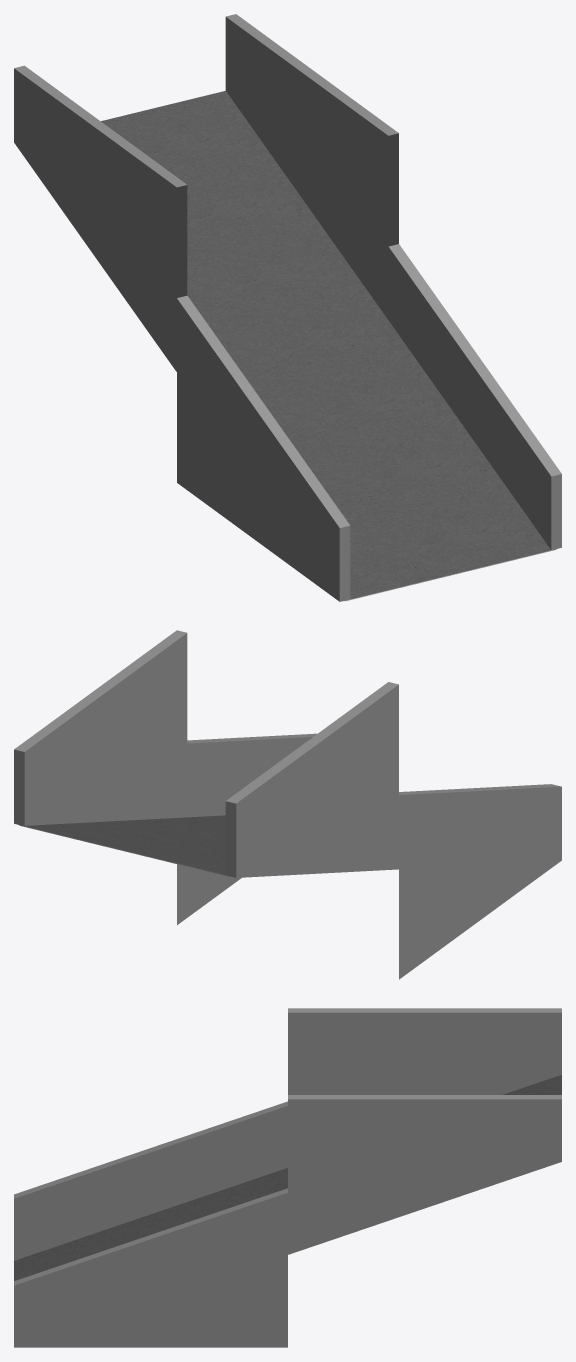
The model's file is Rise.FBX.
The picture shows the model from 3 angles, top to bottom: view 1: azimuth 30°, elevation 25°; view 2: azimuth 150°, elevation 25°; view 3: azimuth 270°, elevation 25°; orthographic projection. The views are drawn at different scales.
Parts seen in each view (by area): view 1: Ground, Side, Side001; view 2: Side, Side001, Ground; view 3: Side001, Side, Ground.
Part boxes in pixels (left/top/right/bottom): Ground: left=101, top=90, right=556, bottom=601; Side: left=14, top=65, right=350, bottom=601; Side001: left=225, top=14, right=561, bottom=550; Side: left=225, top=682, right=561, bottom=979; Side001: left=14, top=630, right=317, bottom=924; Ground: left=19, top=815, right=232, bottom=877; Side001: left=14, top=1095, right=561, bottom=1347; Side: left=14, top=1008, right=561, bottom=1260; Ground: left=14, top=1075, right=561, bottom=1280.
Bounding box in the file's own units: 3150 × 4010 × 8000.
Materials: 3 (1 with a texture image).
